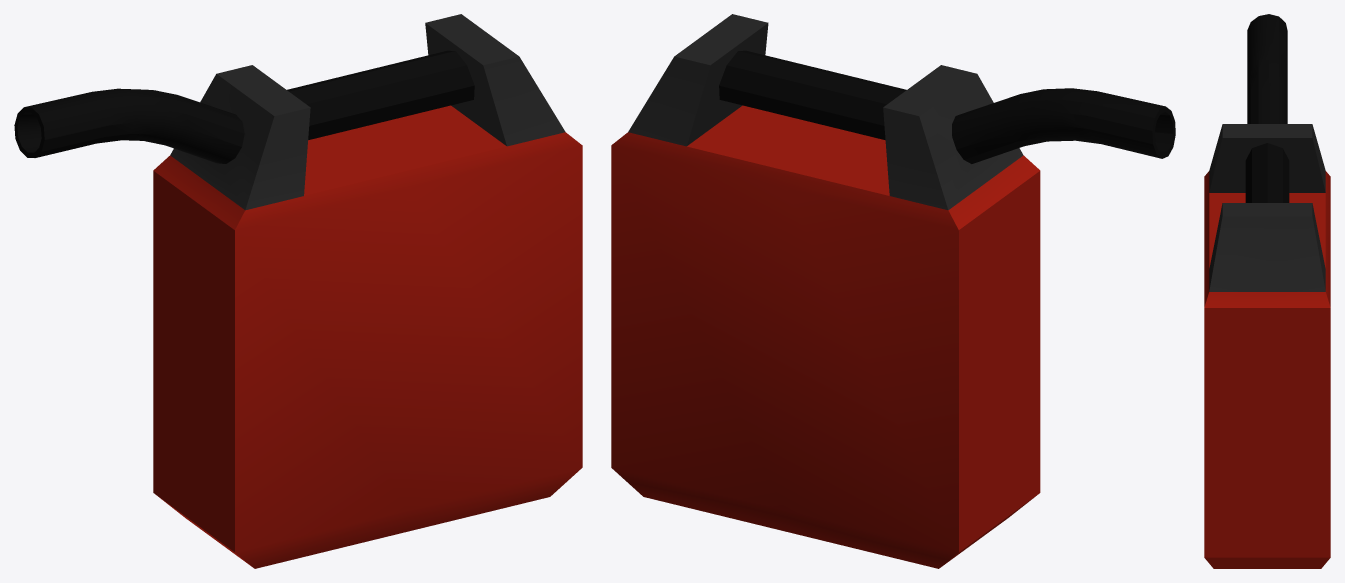
Rendered from gascanister.fbx.
3 views of the same model, side by side, from view 1: azimuth 30°, elevation 25°; view 2: azimuth 150°, elevation 25°; view 3: azimuth 270°, elevation 25° (orthographic). The views are drawn at different scales.
Visible parts, largest first — view 1: Cube; view 2: Cube; view 3: Cube.
Part boxes in pixels (x1,y1,x2,y2): Cube: (14,14,582,568); Cube: (611,14,1175,568); Cube: (1204,14,1330,568).
Bounding box in the file's own units: 297 × 264 × 81.31.
1 material, 1 textured.
